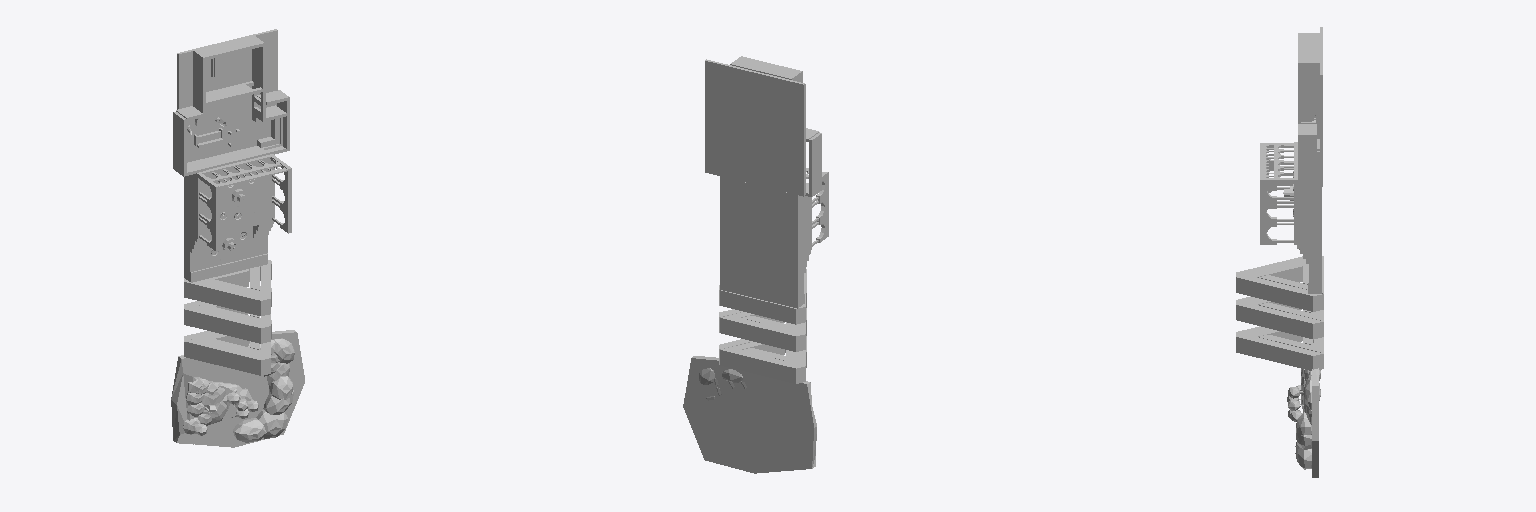
Rendered from Tiffany.obj.
3 renders of one model, left to right at view 1: azimuth 30°, elevation 25°; view 2: azimuth 150°, elevation 25°; view 3: azimuth 270°, elevation 25°, orthographic.
Parts seen in each view (by area): view 1: mmGroup0, mmGroup14, mmGroup58, mmGroup3, mmGroup11, mmGroup7, mmGroup17, mmGroup21, mmGroup19, mmGroup4; view 2: mmGroup14, mmGroup58, mmGroup0, mmGroup10, mmGroup6, mmGroup2, mmGroup19, mmGroup21; view 3: mmGroup0, mmGroup14, mmGroup4, mmGroup12, mmGroup8, mmGroup37, mmGroup16, mmGroup21.
Part boxes in pixels (bbox=[...]): mmGroup0: bbox=[184, 154, 291, 282]; mmGroup14: bbox=[171, 330, 304, 447]; mmGroup58: bbox=[177, 29, 277, 162]; mmGroup3: bbox=[184, 269, 270, 315]; mmGroup11: bbox=[184, 333, 270, 375]; mmGroup7: bbox=[184, 303, 270, 343]; mmGroup17: bbox=[196, 144, 289, 169]; mmGroup21: bbox=[196, 35, 264, 59]; mmGroup19: bbox=[173, 112, 186, 173]; mmGroup4: bbox=[206, 260, 271, 297]; mmGroup14: bbox=[683, 356, 816, 473]; mmGroup58: bbox=[705, 59, 805, 196]; mmGroup0: bbox=[720, 168, 828, 308]; mmGroup10: bbox=[720, 342, 805, 383]; mmGroup6: bbox=[720, 312, 805, 351]; mmGroup2: bbox=[720, 290, 805, 324]; mmGroup19: bbox=[809, 132, 821, 193]; mmGroup21: bbox=[730, 56, 798, 78]; mmGroup0: bbox=[1260, 142, 1321, 293]; mmGroup14: bbox=[1287, 368, 1320, 477]; mmGroup4: bbox=[1236, 261, 1323, 311]; mmGroup12: bbox=[1236, 329, 1323, 370]; mmGroup8: bbox=[1236, 299, 1323, 339]; mmGroup37: bbox=[1298, 65, 1316, 108]; mmGroup16: bbox=[1298, 151, 1319, 186]; mmGroup21: bbox=[1298, 34, 1319, 65].
Bounding box in the file's own units: 29.95 × 88.22 × 17.45.